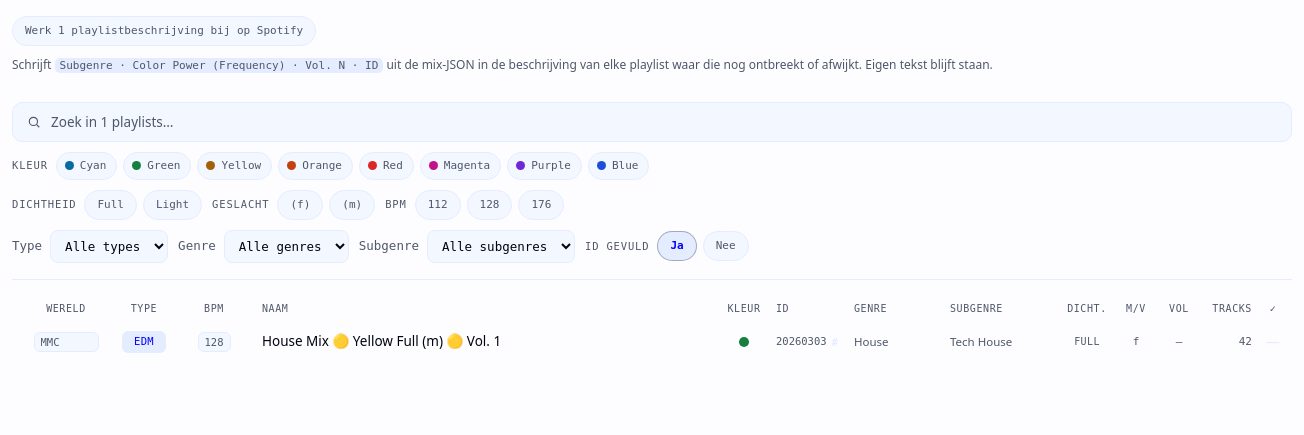
Test: PlaylistManager -- de beschrijving naar Spotify schrijven › draait de markering terug en geeft de REDEN van de route door
Click the button named "velden van mix 20260303 in de Spotify-beschrijving" at (835, 342), box [830,337,840,347]
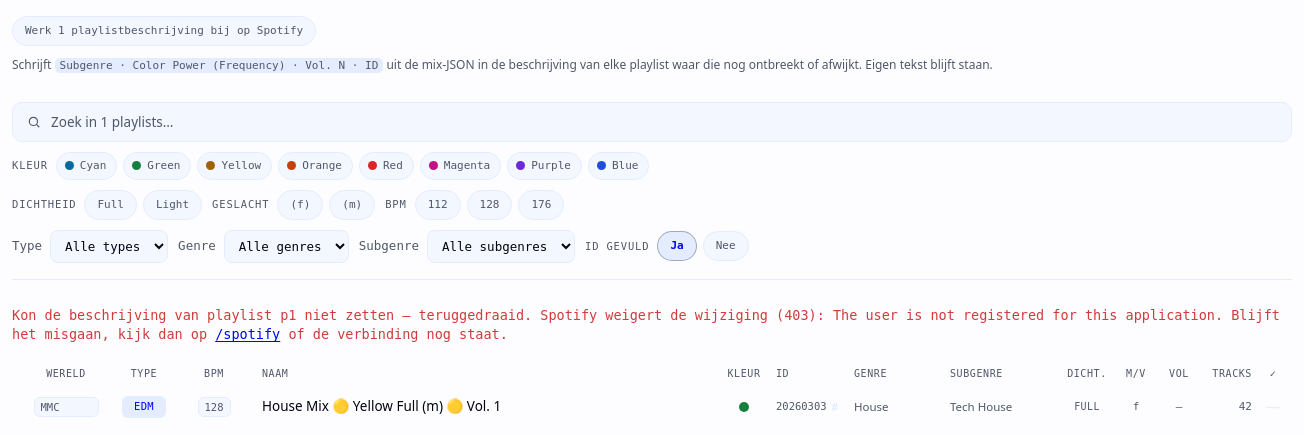
Expected: the button named "velden van mix 20260303 in de Spotify-beschrijving" is shown, [830,402,840,412]
Expected: the text "not registered for this application" is shown, [540,307,1223,323]
